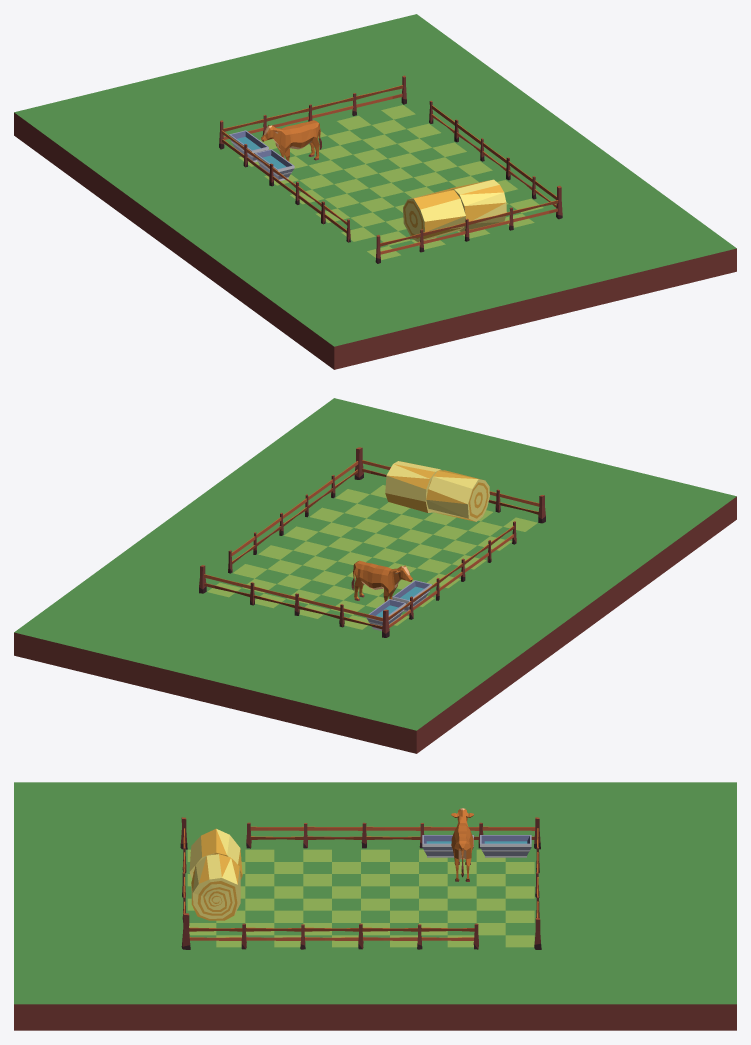
File: BasicLevel.fbx
3 views of the same model, one above another, from view 1: azimuth 30°, elevation 25°; view 2: azimuth 150°, elevation 25°; view 3: azimuth 270°, elevation 25° (orthographic). The views are drawn at different scales.
Visible parts, largest first — view 1: Level, Fence, Hay Bale, Cow, Trough; view 2: Level, Fence, Hay Bale, Cow, Trough; view 3: Level, Fence, Hay Bale, Trough, Cow.
Part boxes in pixels (x1,y1,x2,y2): Level: (14,14,736,369); Fence: (219,75,562,263); Hay Bale: (403,179,506,242); Cow: (261,120,321,161); Trough: (229,130,294,180); Level: (14,398,736,753); Fence: (199,447,545,637); Hay Bale: (385,461,489,521); Cow: (351,560,412,601); Trough: (366,580,431,630); Level: (14,782,736,1030); Fence: (180,817,541,949); Hay Bale: (189,828,242,920); Trough: (422,835,531,857); Cow: (451,808,473,881).
Size of the model in its own units: 1815 by 284 by 2500.
